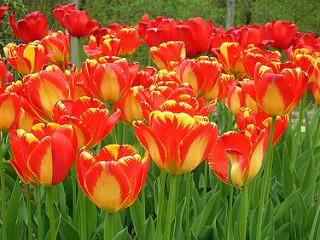tulip: (132, 110, 219, 176), (76, 143, 149, 214), (204, 125, 270, 186), (22, 123, 78, 185), (254, 61, 307, 117), (83, 55, 141, 101)
